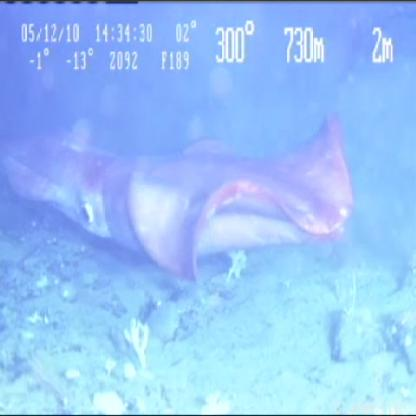Bio: (1, 104, 358, 291)
